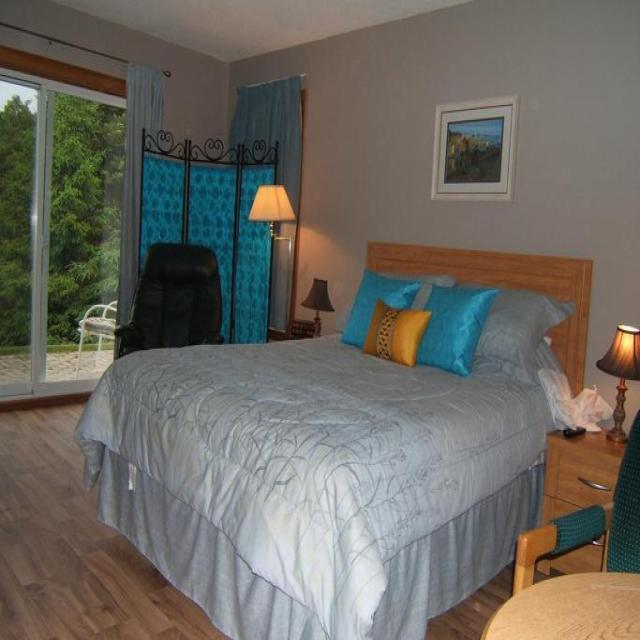bed: (74, 239, 593, 639)
chair: (75, 241, 224, 379)
cupboard: (538, 422, 629, 578)
curtains: (228, 74, 302, 338), (114, 60, 165, 350)
lamps: (595, 322, 639, 443), (300, 276, 334, 336)
plants: (0, 90, 124, 348)
table: (480, 570, 639, 639)
